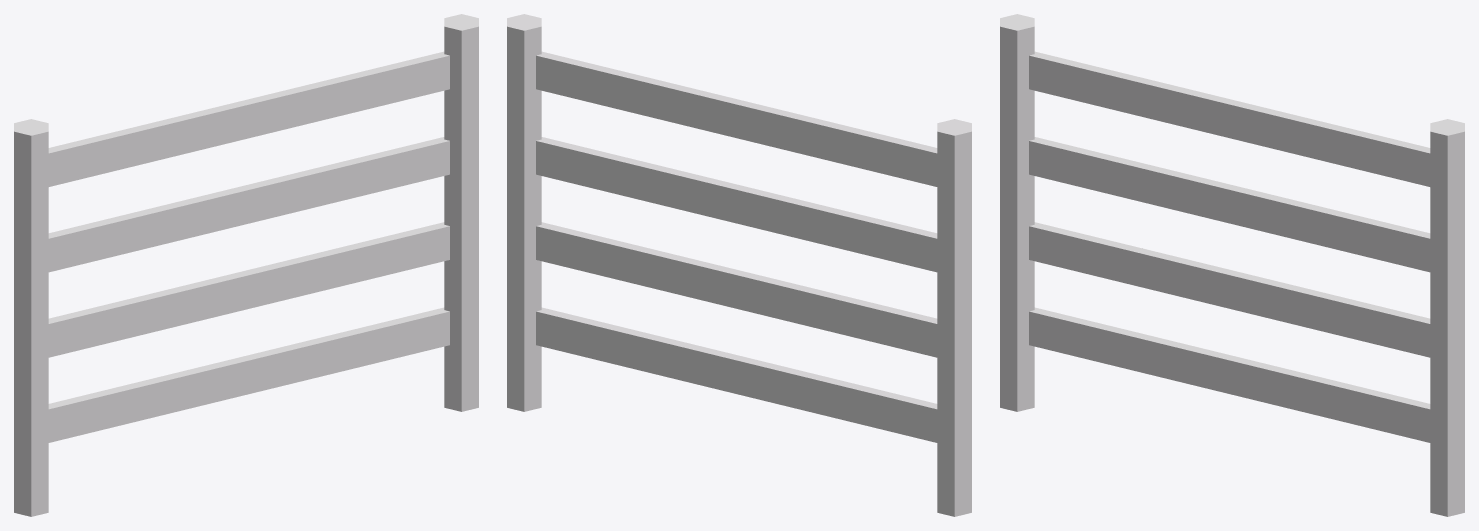
Rendered from SM_fence_019.obj.
The picture shows the model from 3 angles, left to right: view 1: azimuth 30°, elevation 25°; view 2: azimuth 150°, elevation 25°; view 3: azimuth 330°, elevation 25°; orthographic projection.
Visible parts, largest first — view 1: SM_fence_019_M_Material; view 2: SM_fence_019_M_Material; view 3: SM_fence_019_M_Material.
Part boxes in pixels (<box>): SM_fence_019_M_Material: <box>14,14,478,516</box>; SM_fence_019_M_Material: <box>507,14,971,516</box>; SM_fence_019_M_Material: <box>1000,14,1464,516</box>.
Size of the model in its own units: 2.16 by 1.69 by 0.1387.
Materials: 1 (1 with a texture image).
